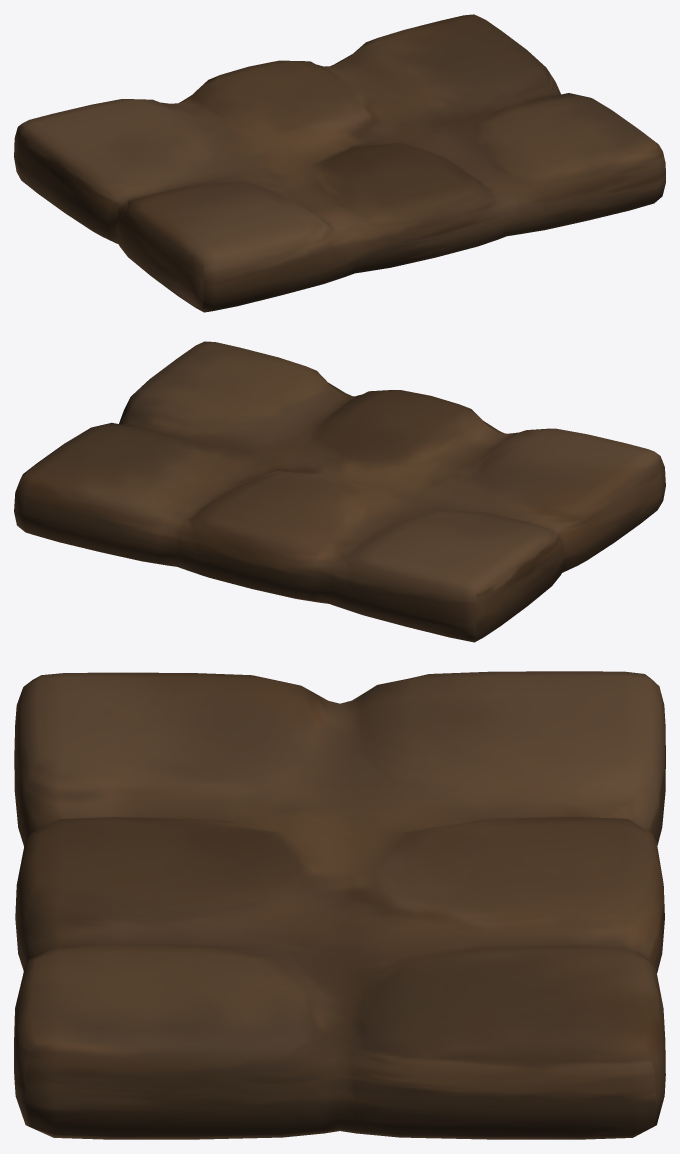
Rendered from SoilPlaseLarge.fbx.
3 renders of one model, top to bottom at view 1: azimuth 30°, elevation 25°; view 2: azimuth 150°, elevation 25°; view 3: azimuth 270°, elevation 25°, orthographic. The views are drawn at different scales.
Parts seen in each view (by area): view 1: Cube.001; view 2: Cube.001; view 3: Cube.001.
Part boxes in pixels (x1,y1,x2,y2): Cube.001: (14,14,665,312); Cube.001: (14,341,665,642); Cube.001: (14,671,665,1139).
Size of the model in its own units: 1003 by 134 by 721.
